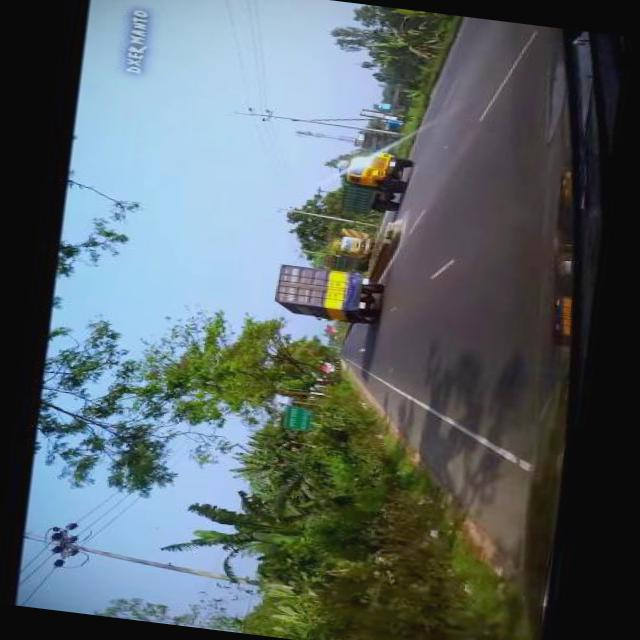truck: (268, 262, 386, 327), (332, 145, 416, 221), (320, 234, 374, 275)
